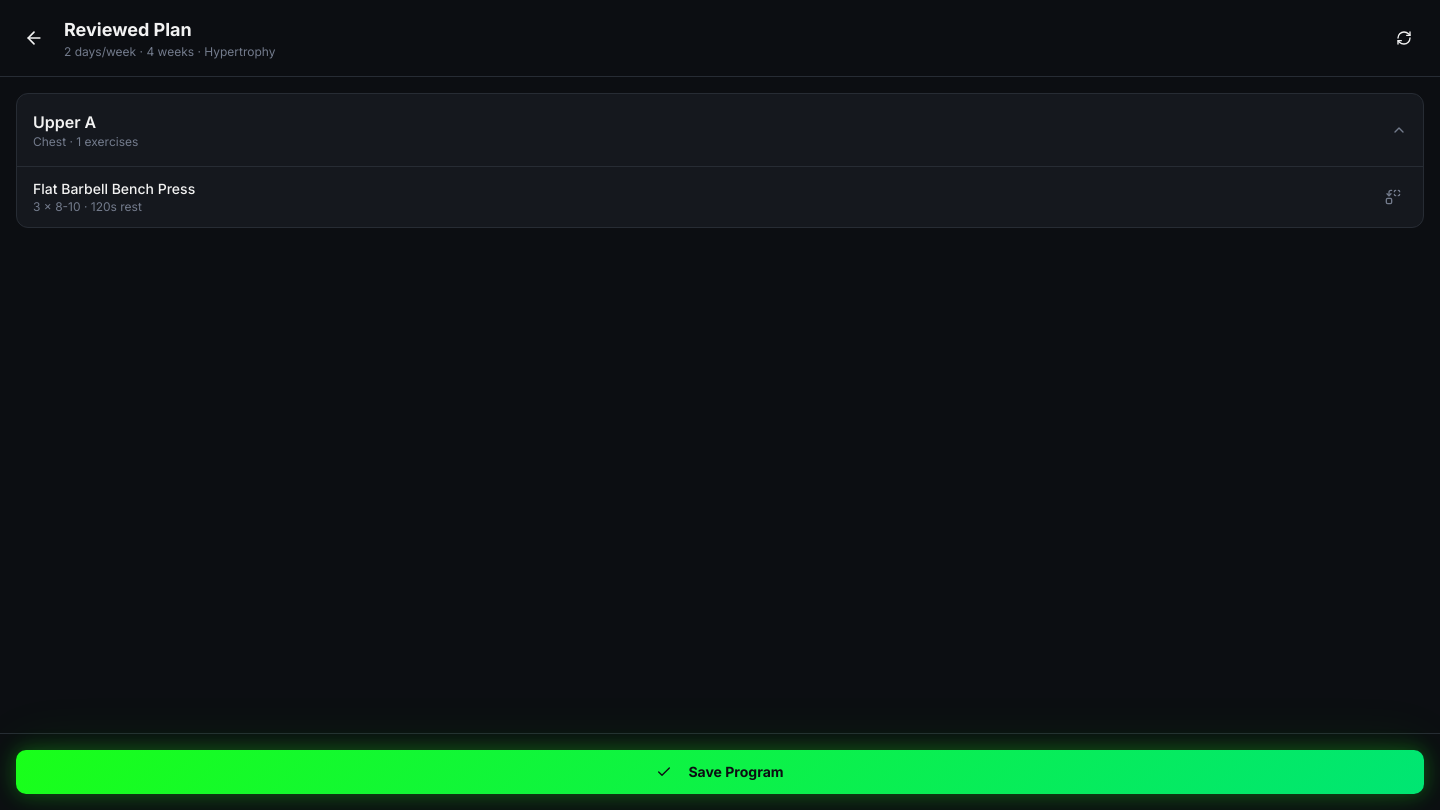
Test: regenerating a reviewed AI program › asks first, naming the credit cost, and generates nothing until confirmed
Click the button named "Regenerate program" at (1404, 38), box [1384,18,1424,58]
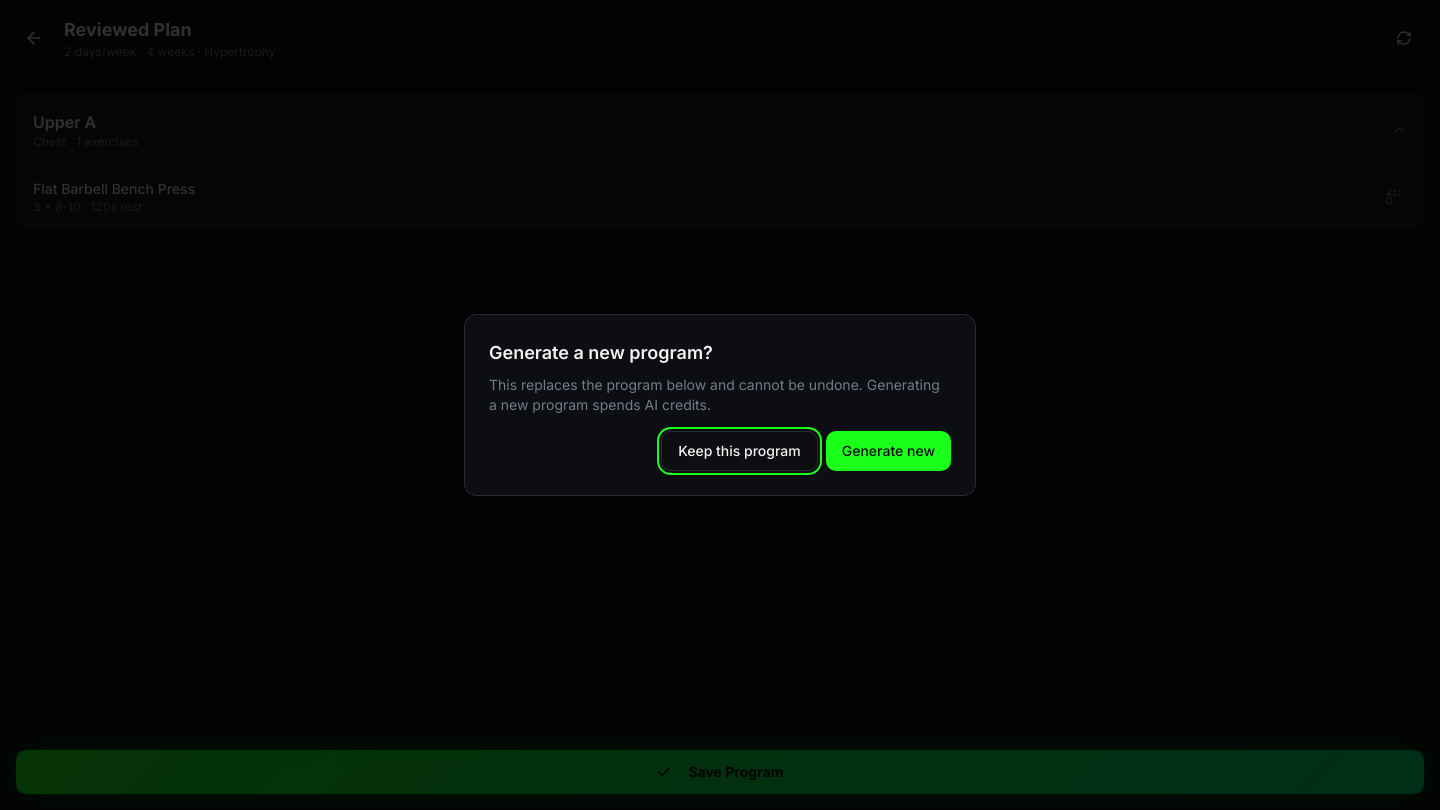
Now the dialog shows "spends AI credits", box [489,376,940,413]
Now the dialog shows "replaces the program below", box [489,376,940,413]
